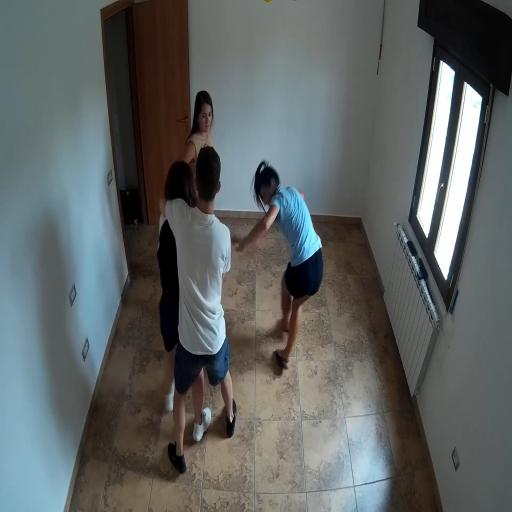violencia: (136, 133, 262, 483)
